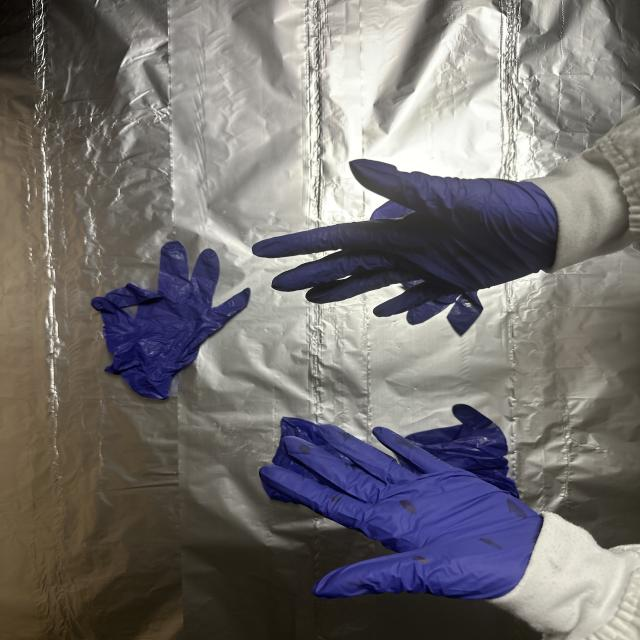gloves_contaminated: (260, 428, 541, 598), (253, 160, 558, 316)
